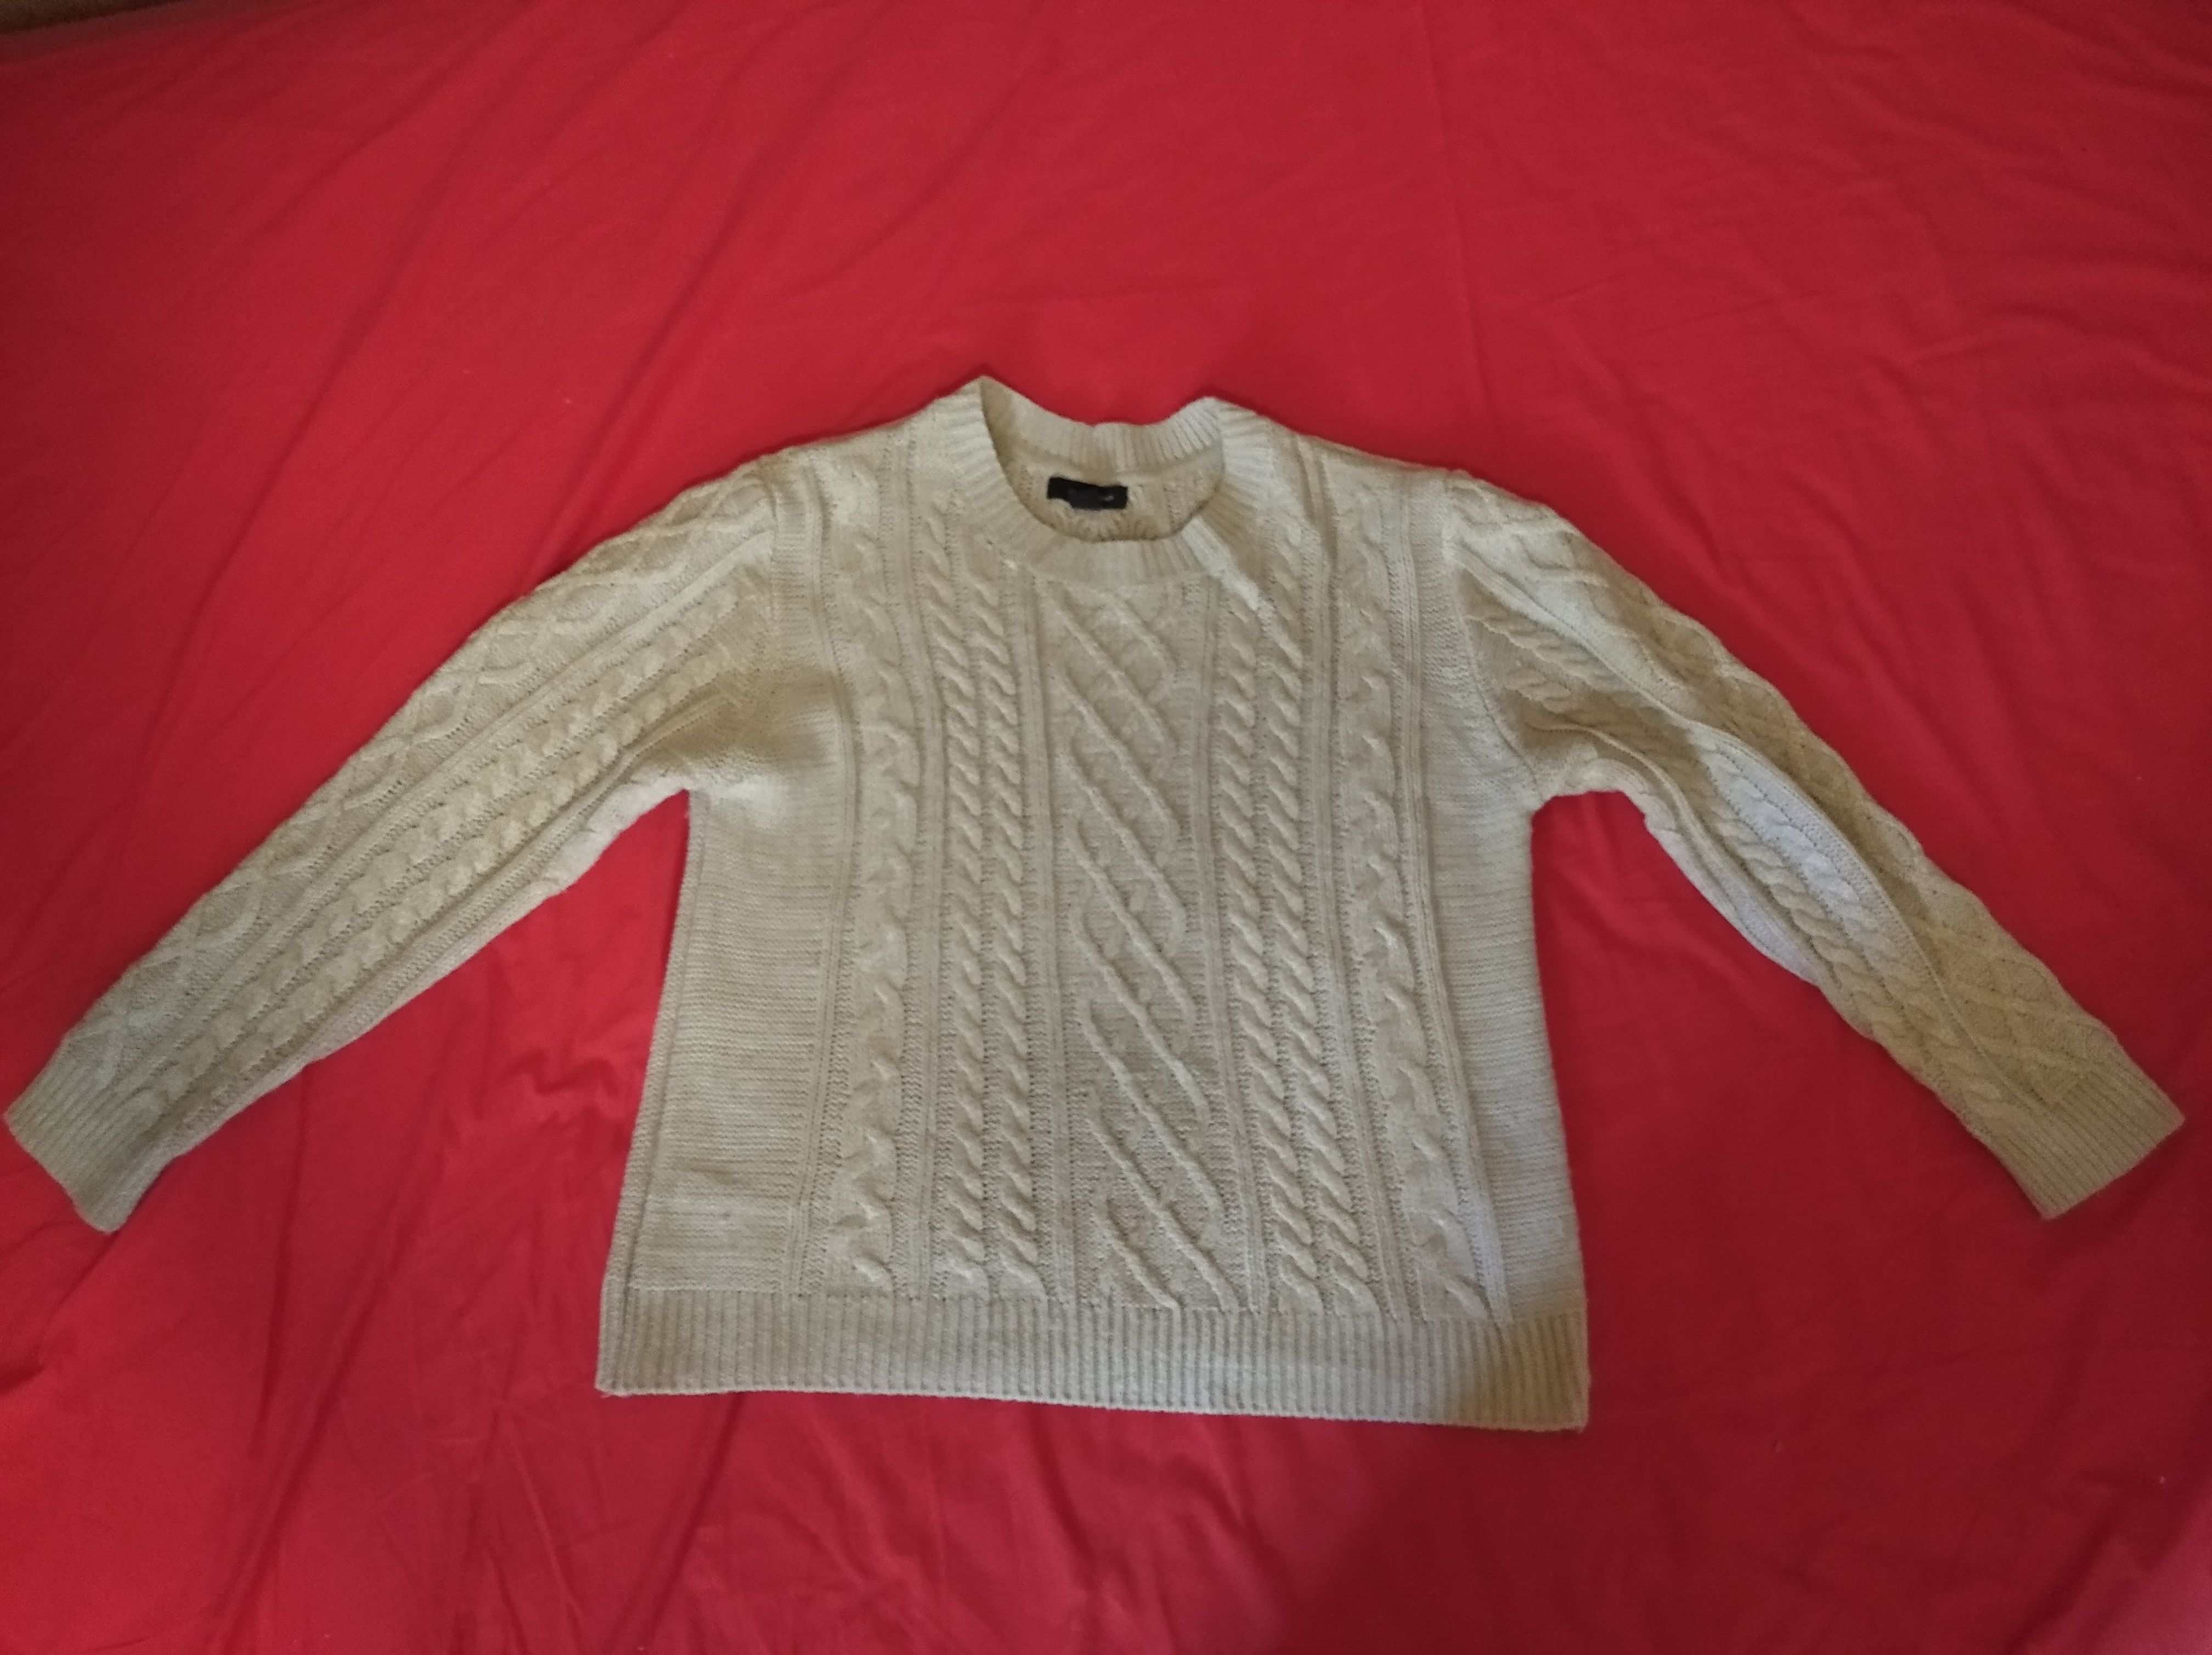clothes: (35, 369, 2191, 1410)
